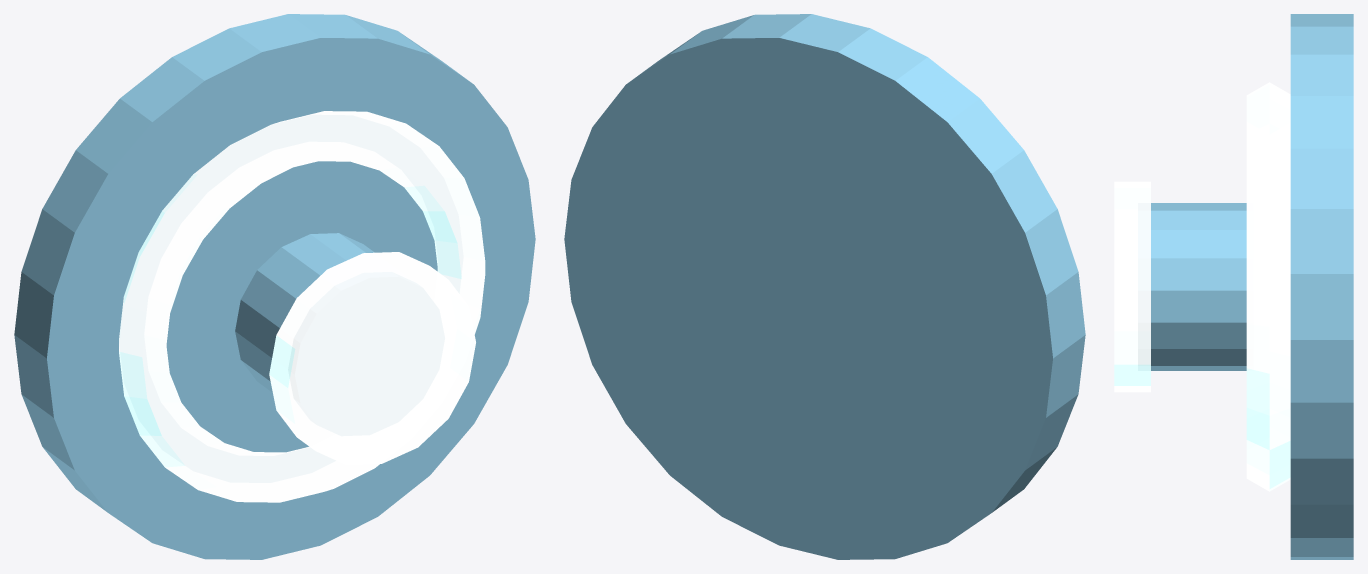
The model's file is LaunchPad.glb.
3 views of the same model, side by side, from view 1: azimuth 30°, elevation 25°; view 2: azimuth 150°, elevation 25°; view 3: azimuth 270°, elevation 25° (orthographic). The views are drawn at different scales.
Parts seen in each view (by area): view 1: LaunchPad_base, LaunchPad_ring, LaunchPad_cap, LaunchPad_coil; view 2: LaunchPad_base; view 3: LaunchPad_base, LaunchPad_ring, LaunchPad_coil, LaunchPad_cap.
Part boxes in pixels (bbox=[...]): LaunchPad_base: bbox=[14, 14, 535, 559]; LaunchPad_ring: bbox=[119, 111, 485, 502]; LaunchPad_cap: bbox=[269, 252, 475, 464]; LaunchPad_coil: bbox=[235, 233, 374, 392]; LaunchPad_base: bbox=[564, 14, 1085, 559]; LaunchPad_base: bbox=[1290, 14, 1353, 559]; LaunchPad_ring: bbox=[1246, 82, 1290, 491]; LaunchPad_coil: bbox=[1151, 203, 1246, 370]; LaunchPad_cap: bbox=[1114, 181, 1150, 392].
Size of the model in its own units: 1.04 by 1.03 by 0.455.
